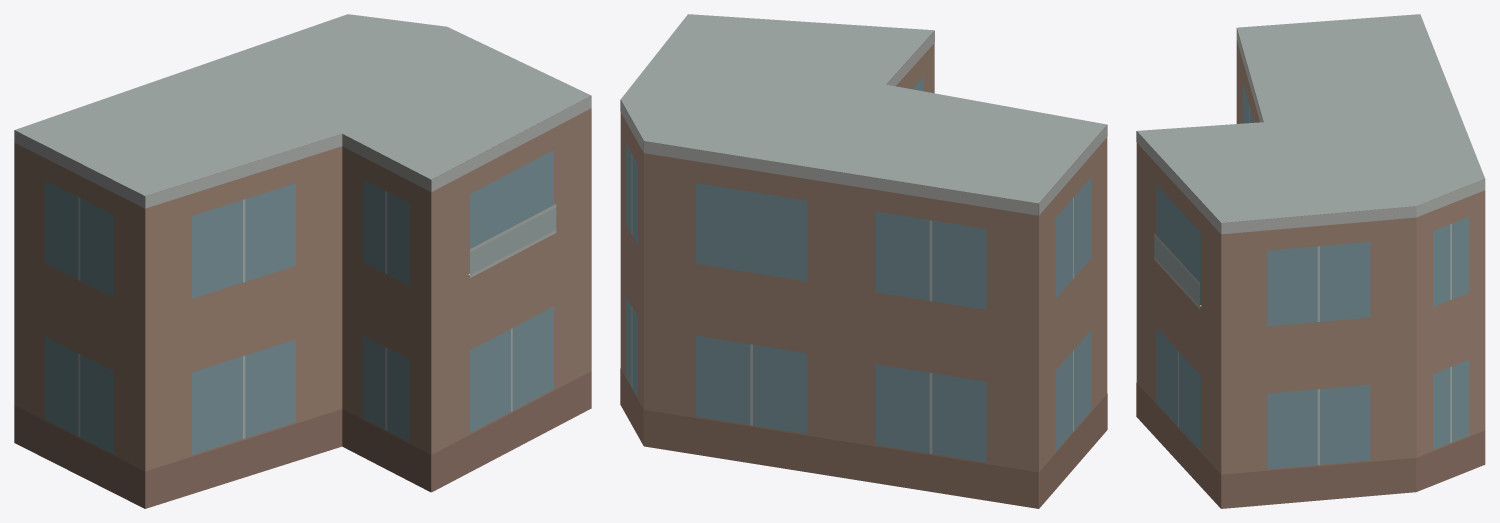
The model's file is survey-upis-32461136.glb.
3 views of the same model, side by side, from view 1: azimuth 30°, elevation 25°; view 2: azimuth 150°, elevation 25°; view 3: azimuth 270°, elevation 25° (orthographic). The views are drawn at different scales.
Visible parts, largest first — view 1: survey-upis-32461136.tmp; view 2: survey-upis-32461136.tmp; view 3: survey-upis-32461136.tmp.
Boxes of the visible parts, x1,y1,x2,y2 form: survey-upis-32461136.tmp: (14, 14, 591, 508); survey-upis-32461136.tmp: (620, 14, 1107, 508); survey-upis-32461136.tmp: (1136, 14, 1485, 508).
Size of the model in its own units: 9.57 by 6.1 by 6.75.
